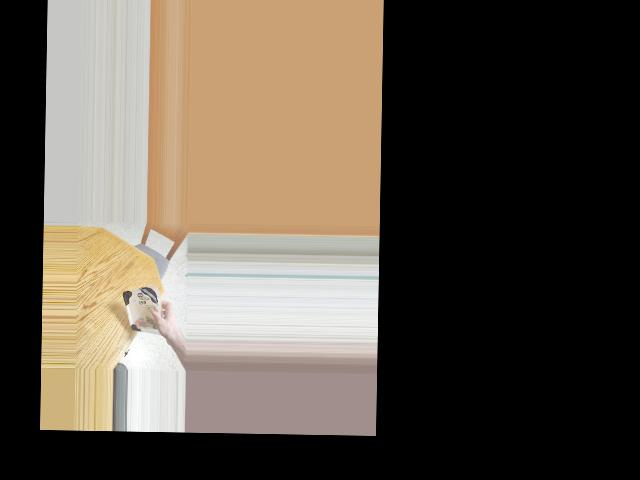cheese: (125, 283, 162, 340)
